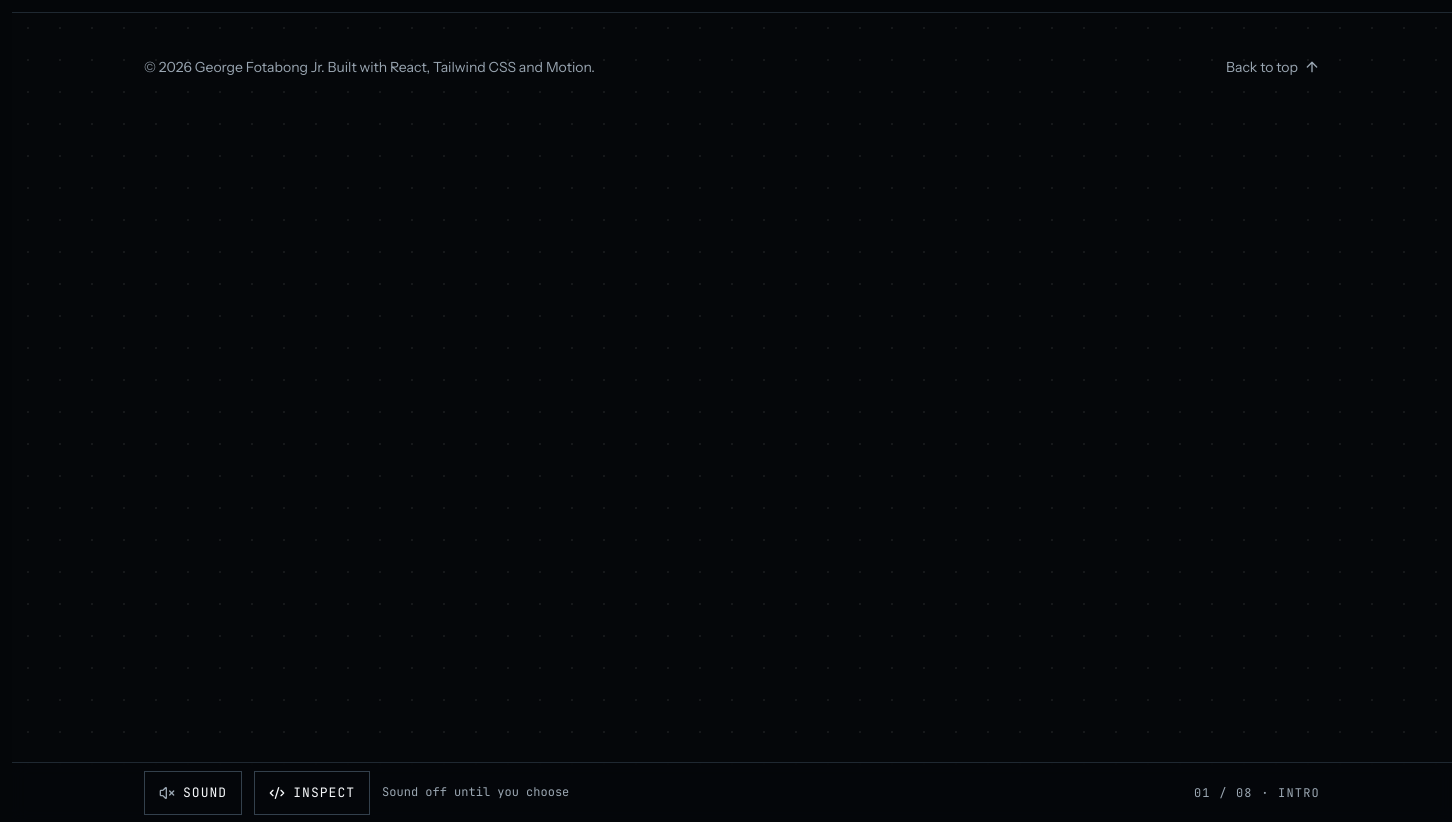
Inspect mode › hides them again
Click the button "Inspect".
click(312, 792)  # box [254, 770, 370, 814]
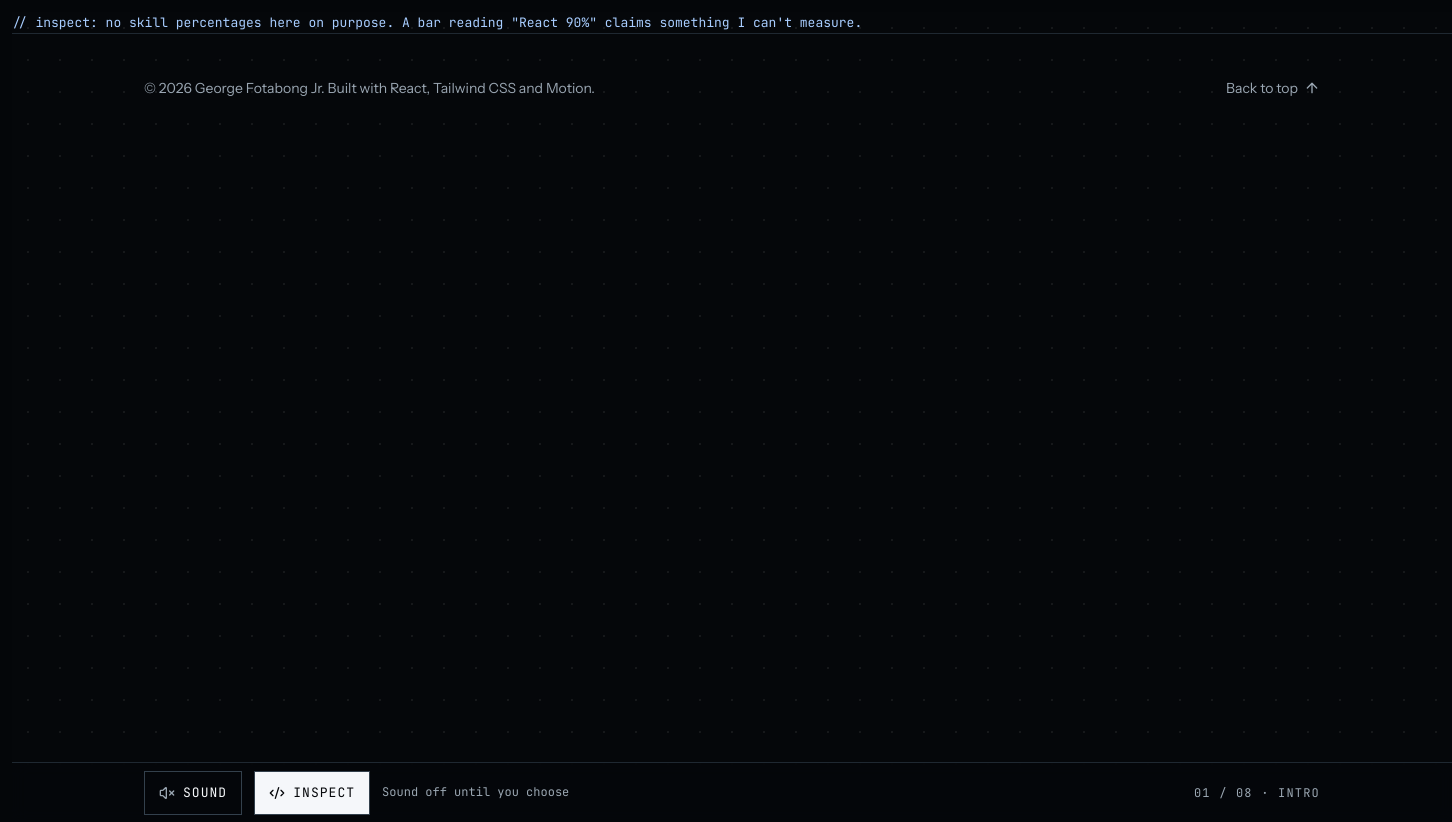
Click the button "Inspect".
click(312, 792)  # box [254, 770, 370, 814]
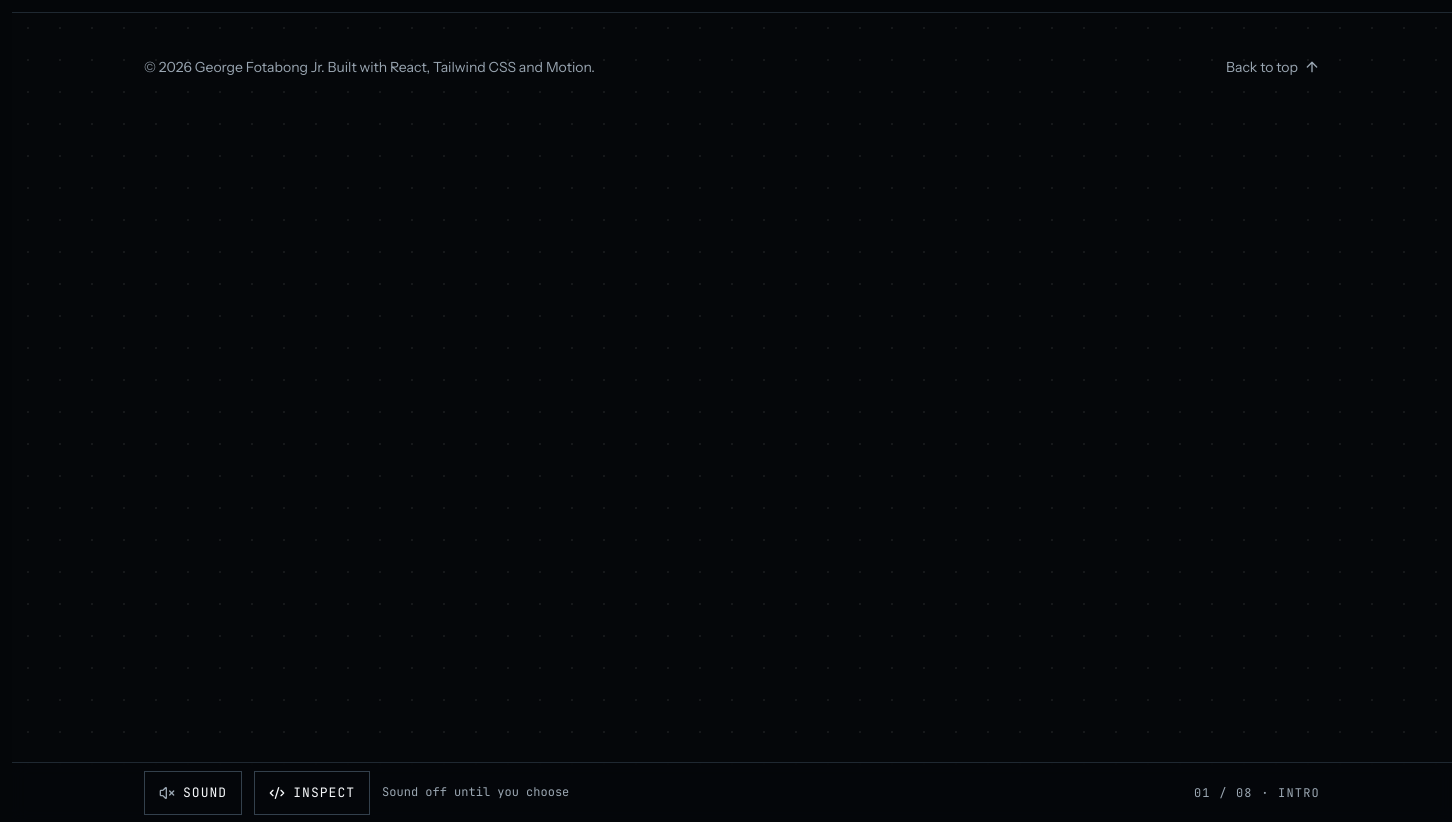
Result: the text "inspect:" is gone
